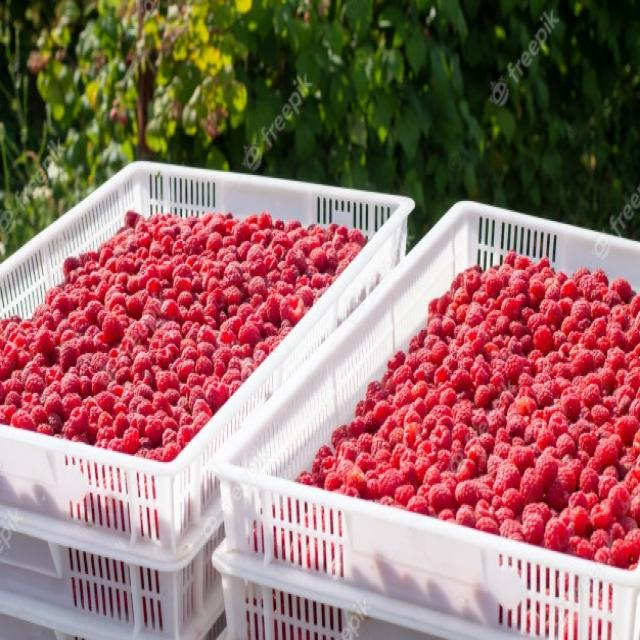basket: (216, 203, 640, 639), (0, 144, 416, 578), (191, 541, 519, 640), (0, 506, 224, 640)
